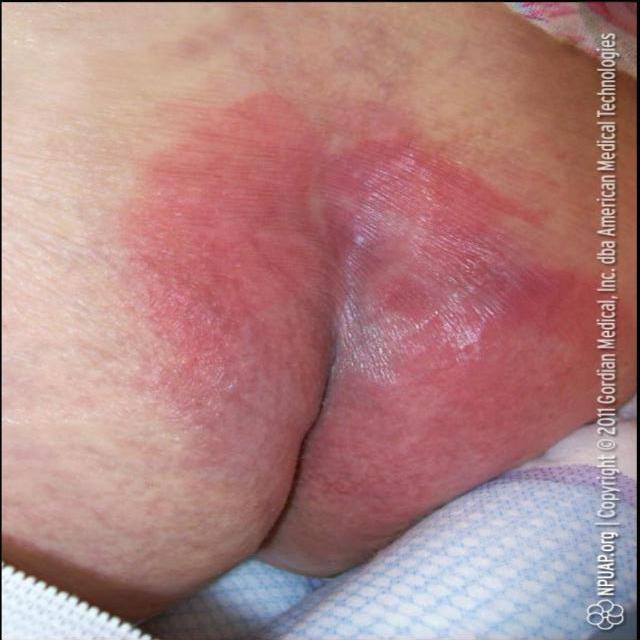stage-1: (134, 104, 604, 531)
